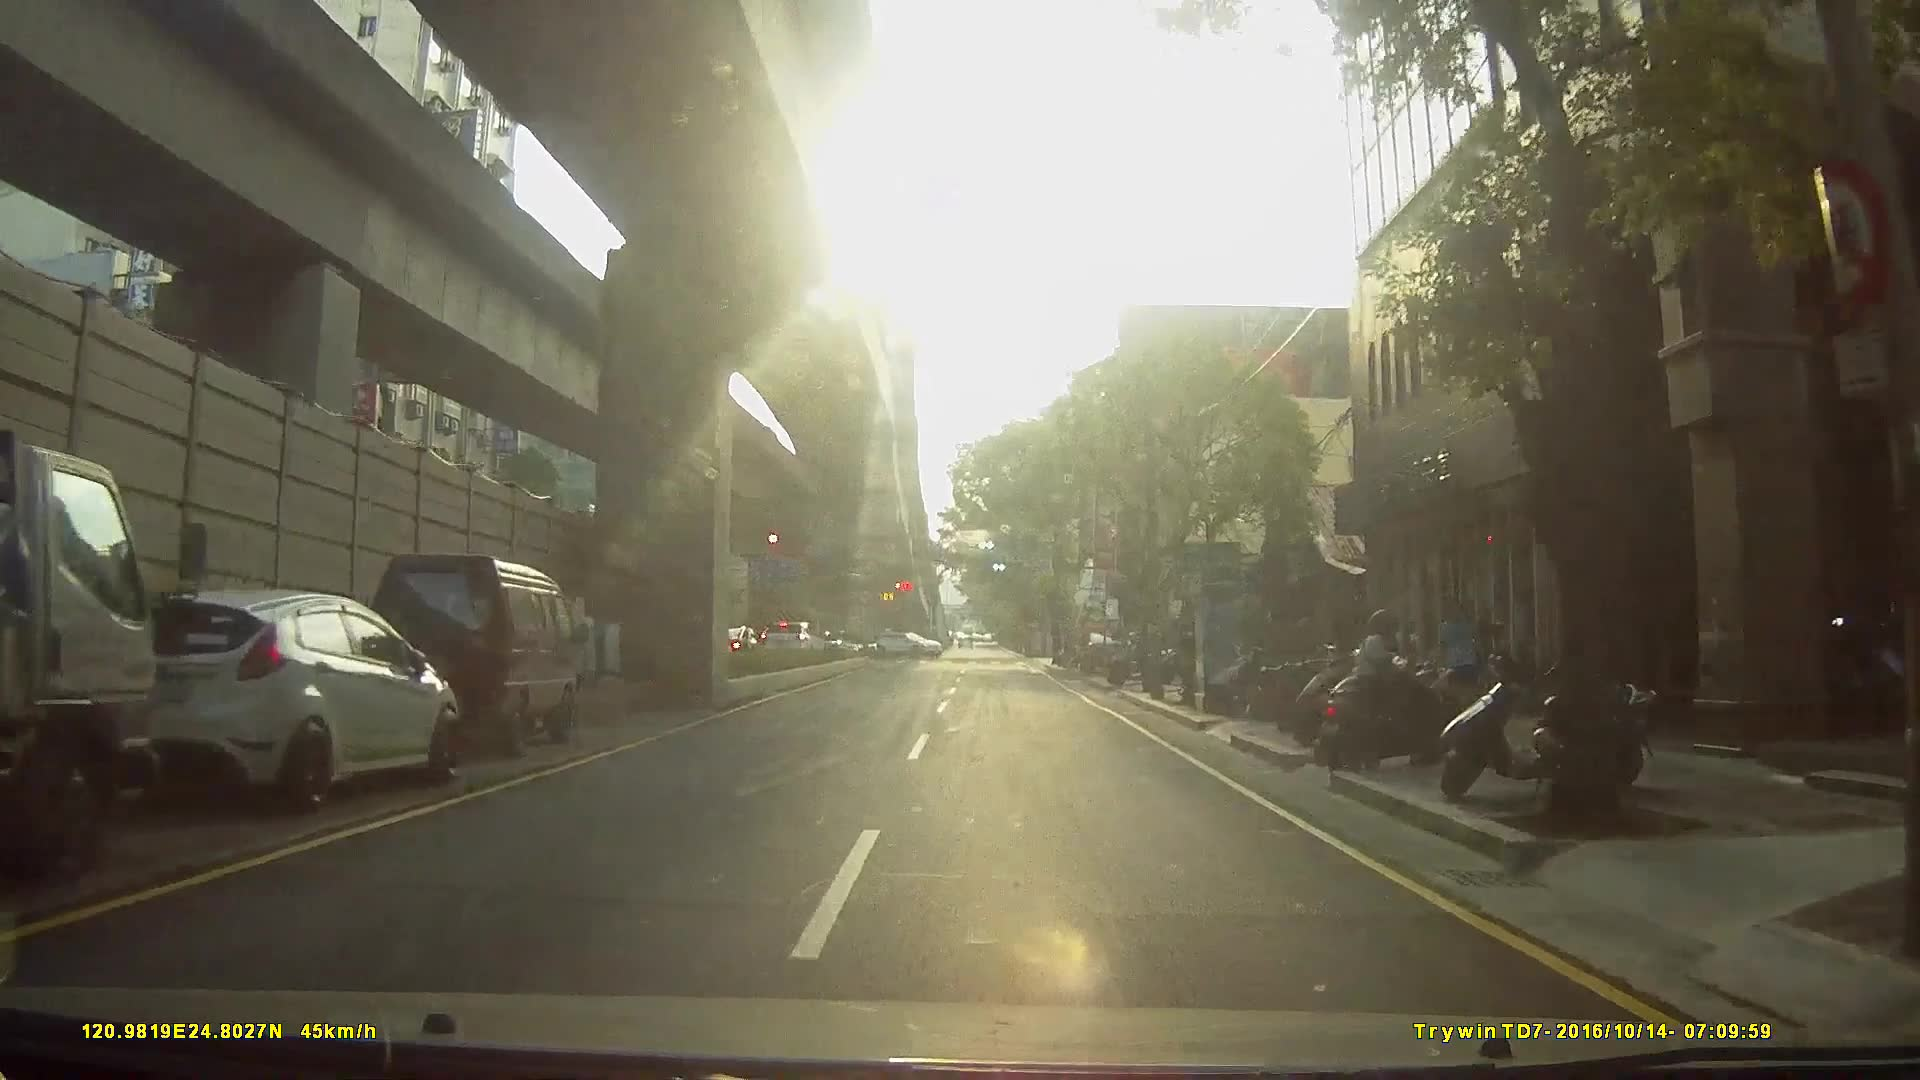pedestrian: (1429, 596, 1484, 727)
rider: (1315, 605, 1471, 778)
vehicle: (1, 432, 223, 895), (91, 576, 468, 825), (347, 546, 589, 761), (756, 618, 828, 662), (1074, 627, 1123, 671), (872, 629, 943, 658)
